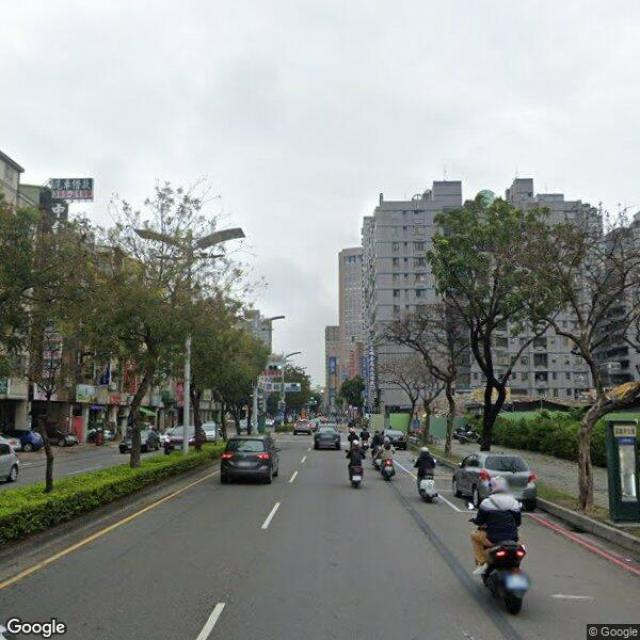Legalparking: (451, 457, 551, 511), (22, 424, 46, 454), (388, 424, 406, 454), (92, 422, 115, 444), (64, 420, 78, 450)
